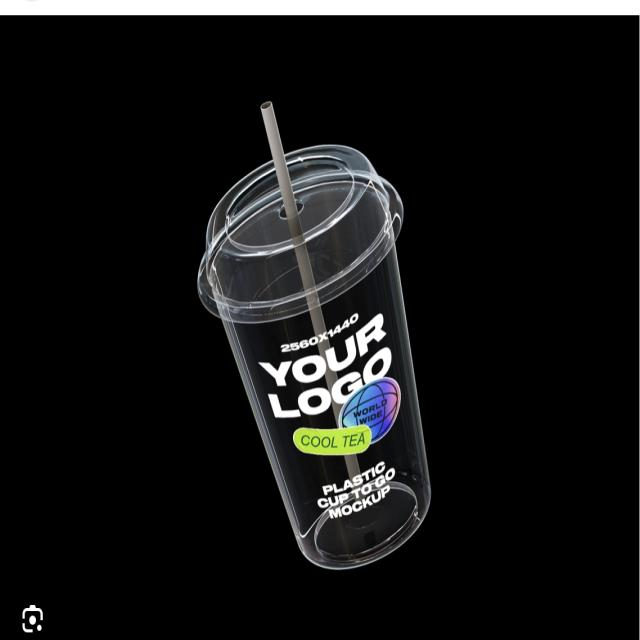recyclable: (190, 74, 468, 593)
